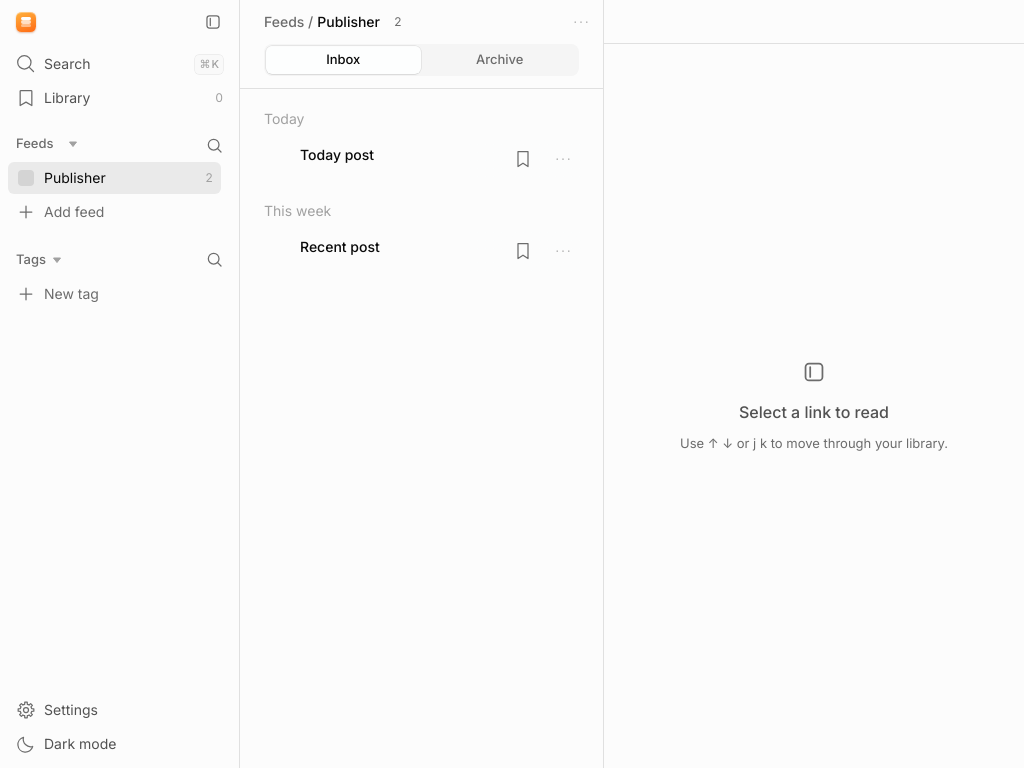
it: steps within the current tab, archives with e and unarchives from the Reader toolbar
The width and height of the screenshot is (1024, 768).
Click the text "Today post": (337,154) [300, 146, 374, 162]
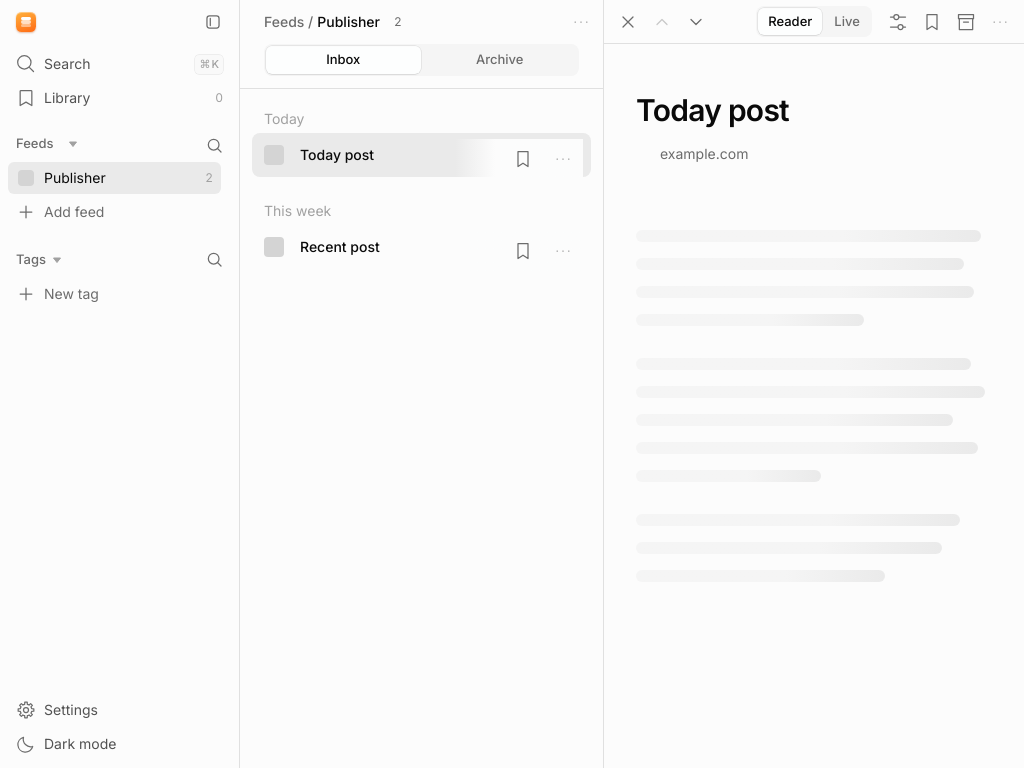
Expected: the heading "Today post" is shown, [636, 92, 789, 128]
Press ArrowDown
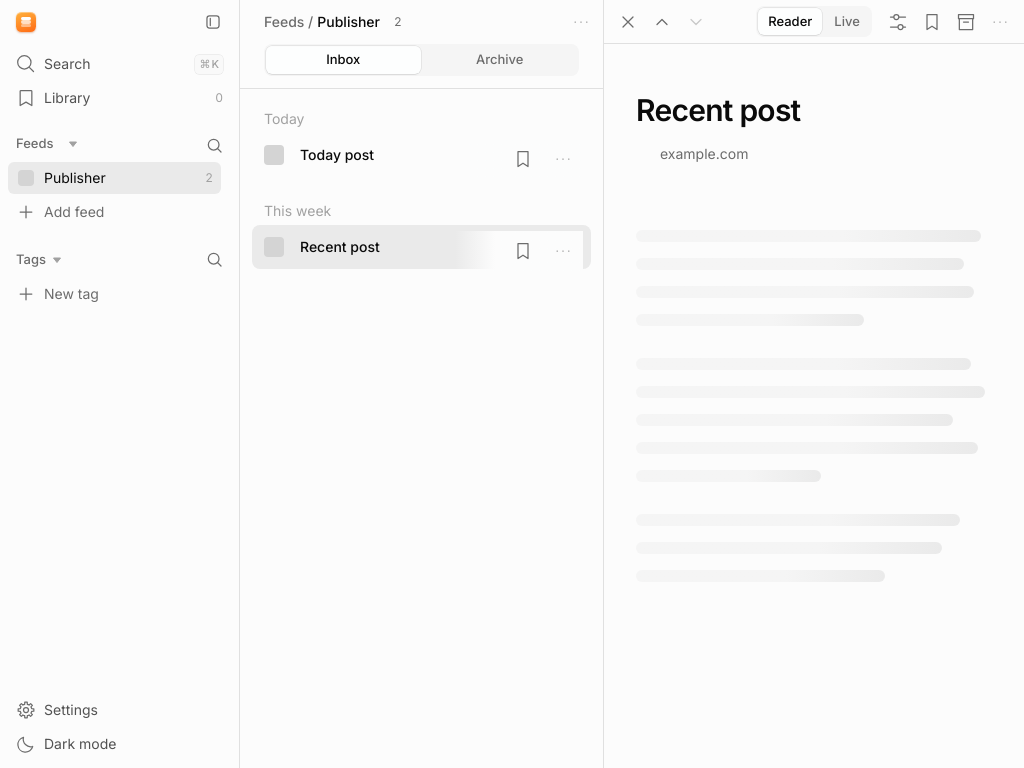
Expected: the heading "Recent post" is shown, [636, 92, 800, 128]
Press e
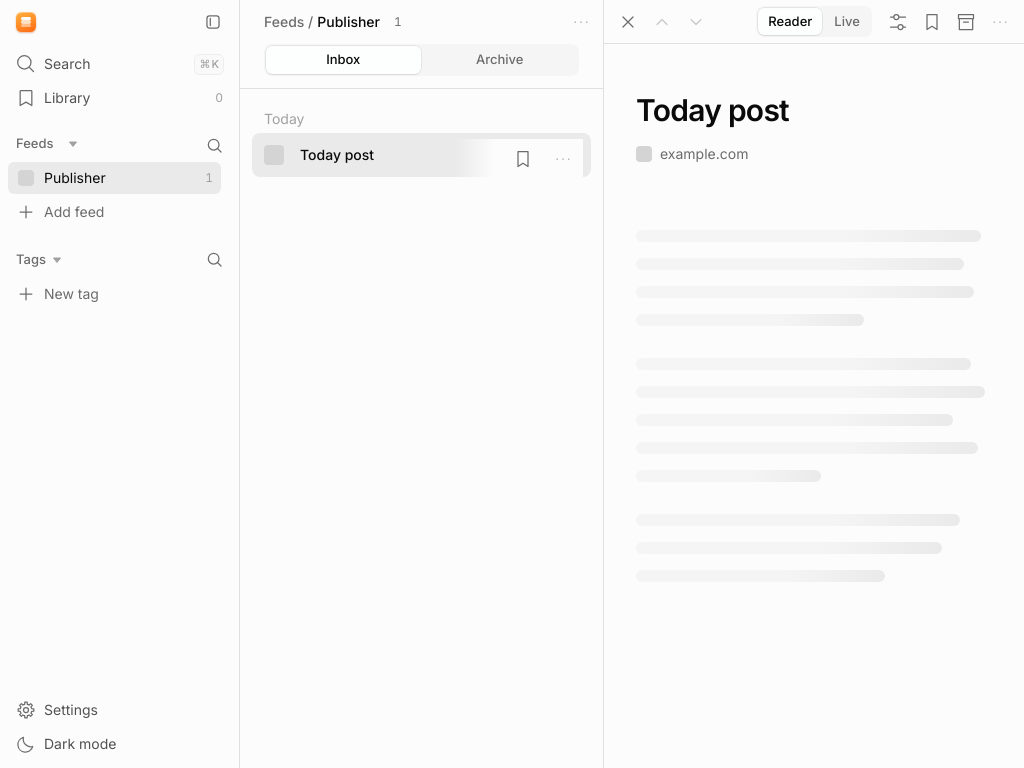
Expected: the link "Recent post" is gone
Expected: the heading "Today post" is shown, [636, 92, 789, 128]
Click the tab "Archive": (500,60) [422, 46, 577, 74]
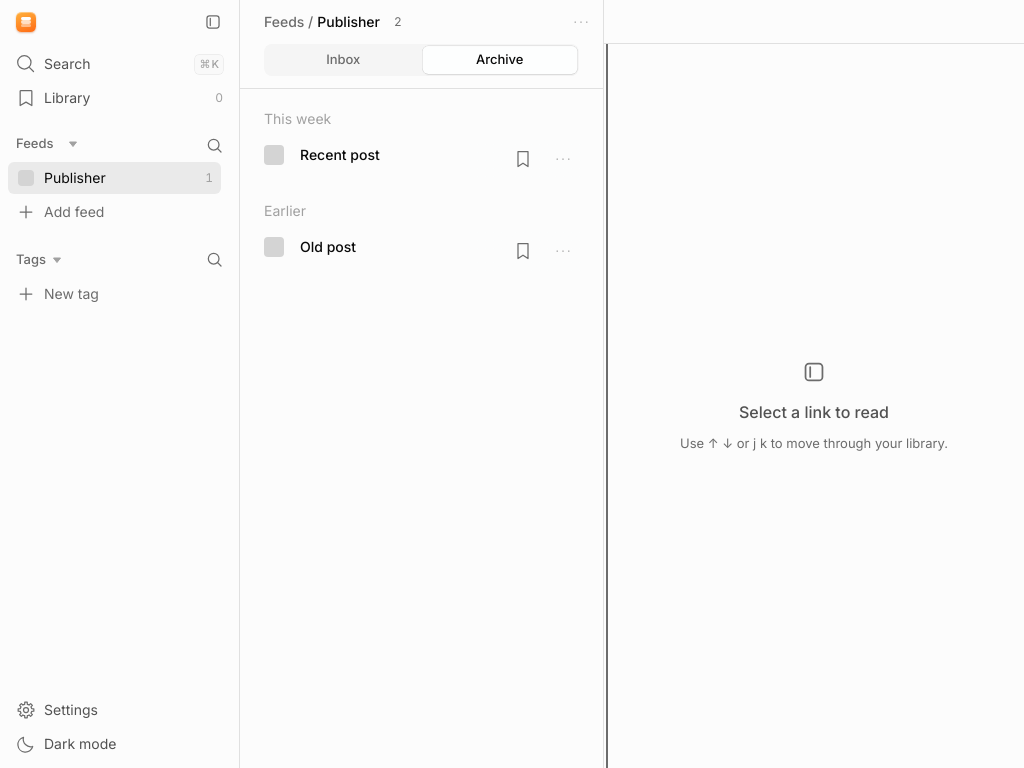
Expected: the heading "Today" is not shown
Expected: the text "Recent post" is shown
Click the text "Recent post": (340,154) [300, 146, 380, 162]
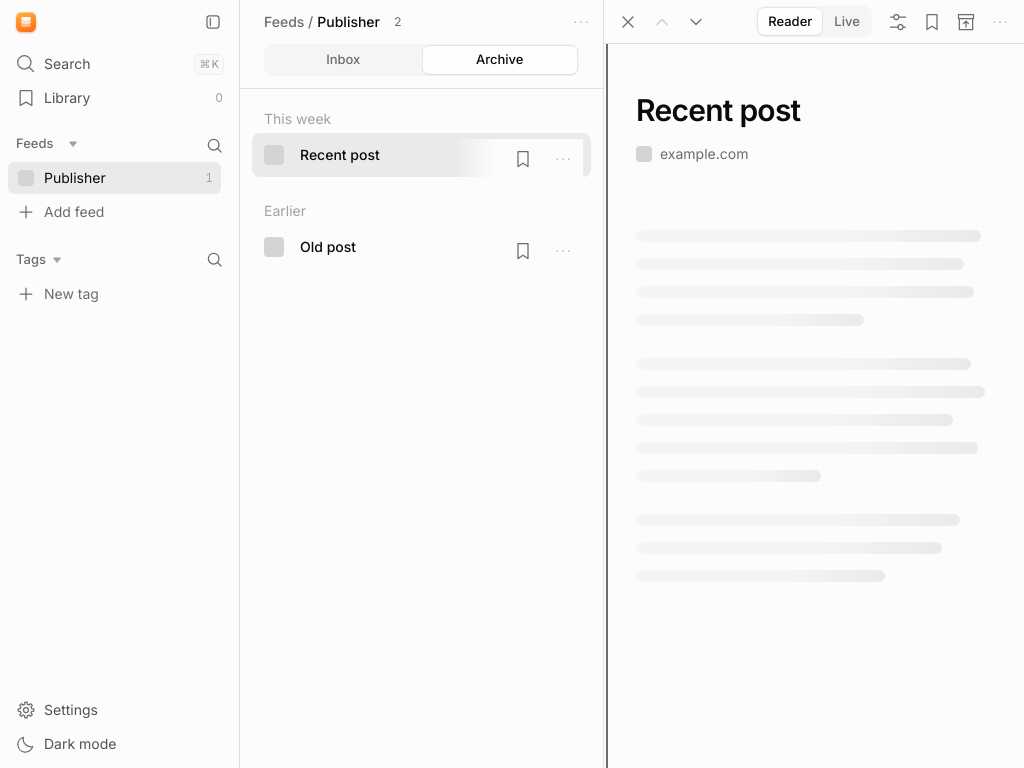
Click the button named "Unarchive": (966,22) [950, 6, 982, 38]
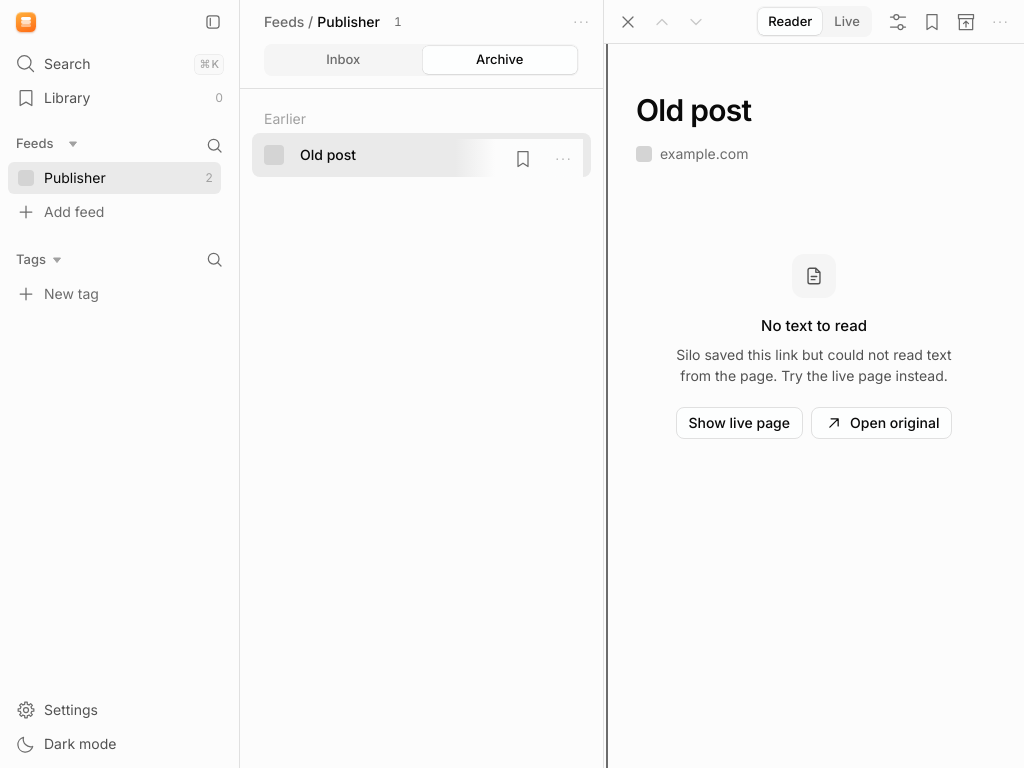
Expected: the link "Recent post" is gone
Expected: the heading "Old post" is shown, [636, 92, 751, 128]
